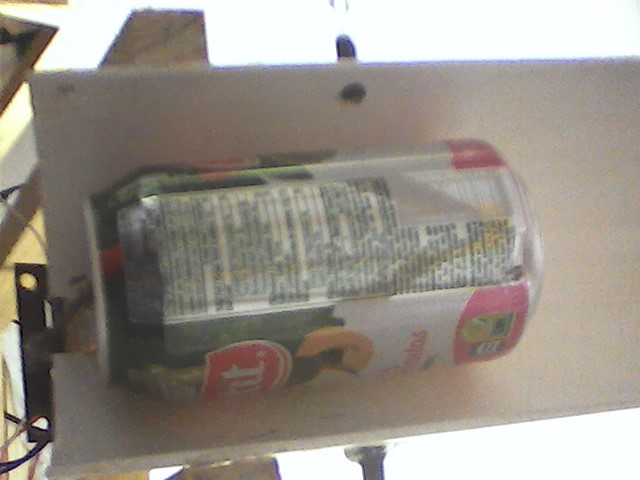lata: (75, 132, 549, 408)
